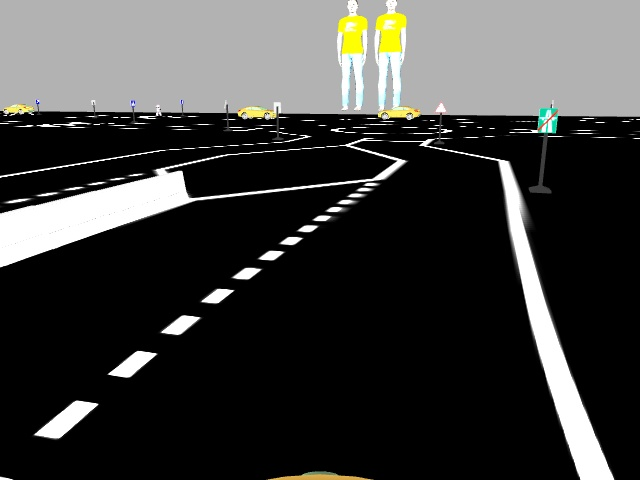HighwayExit: (537, 107, 560, 135)
